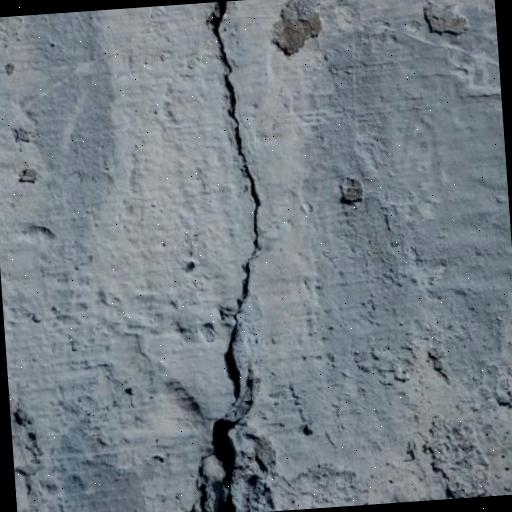spalling: (185, 4, 269, 509)
